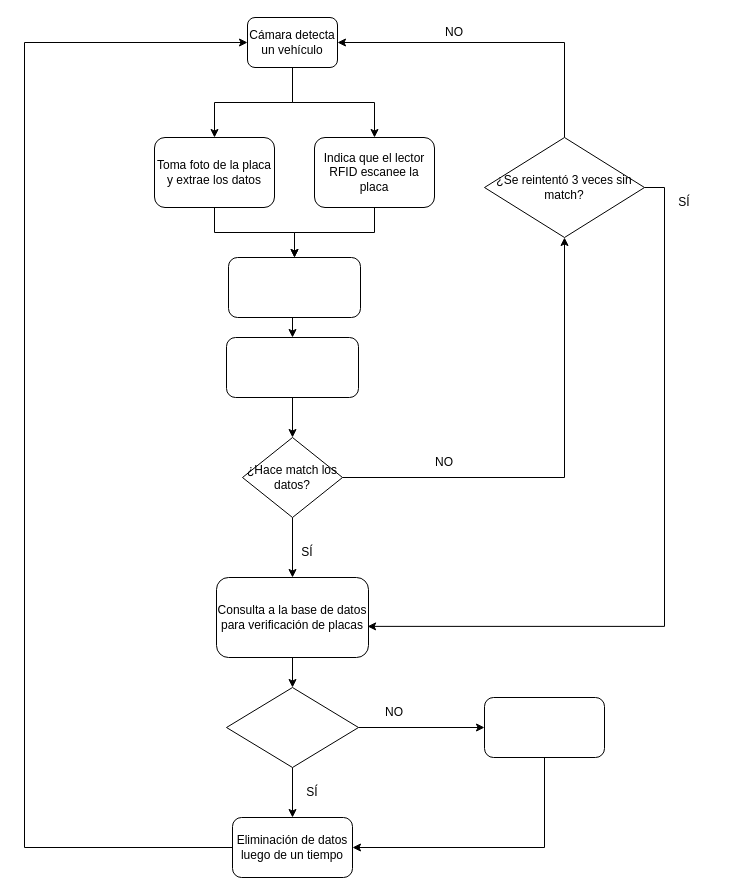
Some shapes in this 732 by 895 pixel diagram are drawn without their labels. The box of each missing label's shape, as (x1, y1, x2, y2) in pixels:
Agrupar los datos por una ventana temporal: (228, 256, 360, 318)
Alertar la infracción: (484, 696, 604, 758)
Almacenamiento de datos temporal (REDIS): (226, 336, 358, 398)
¿Está todo en regla?: (226, 686, 358, 768)
